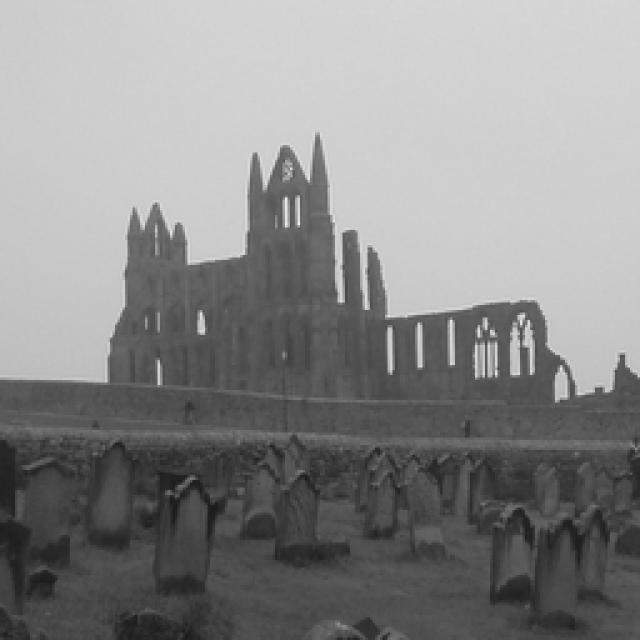Abbey: (122, 183, 571, 464)
